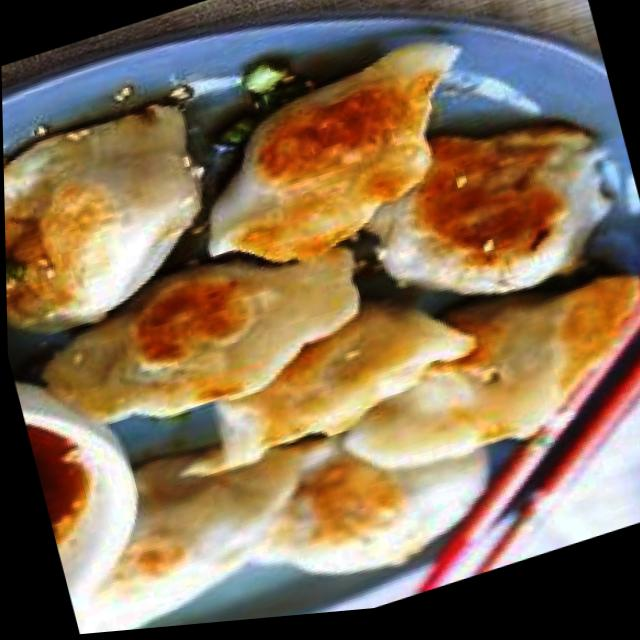fried_dumplings: (172, 19, 501, 291), (27, 215, 381, 457), (321, 251, 640, 496), (154, 269, 488, 486), (354, 84, 630, 337), (2, 92, 231, 353)
